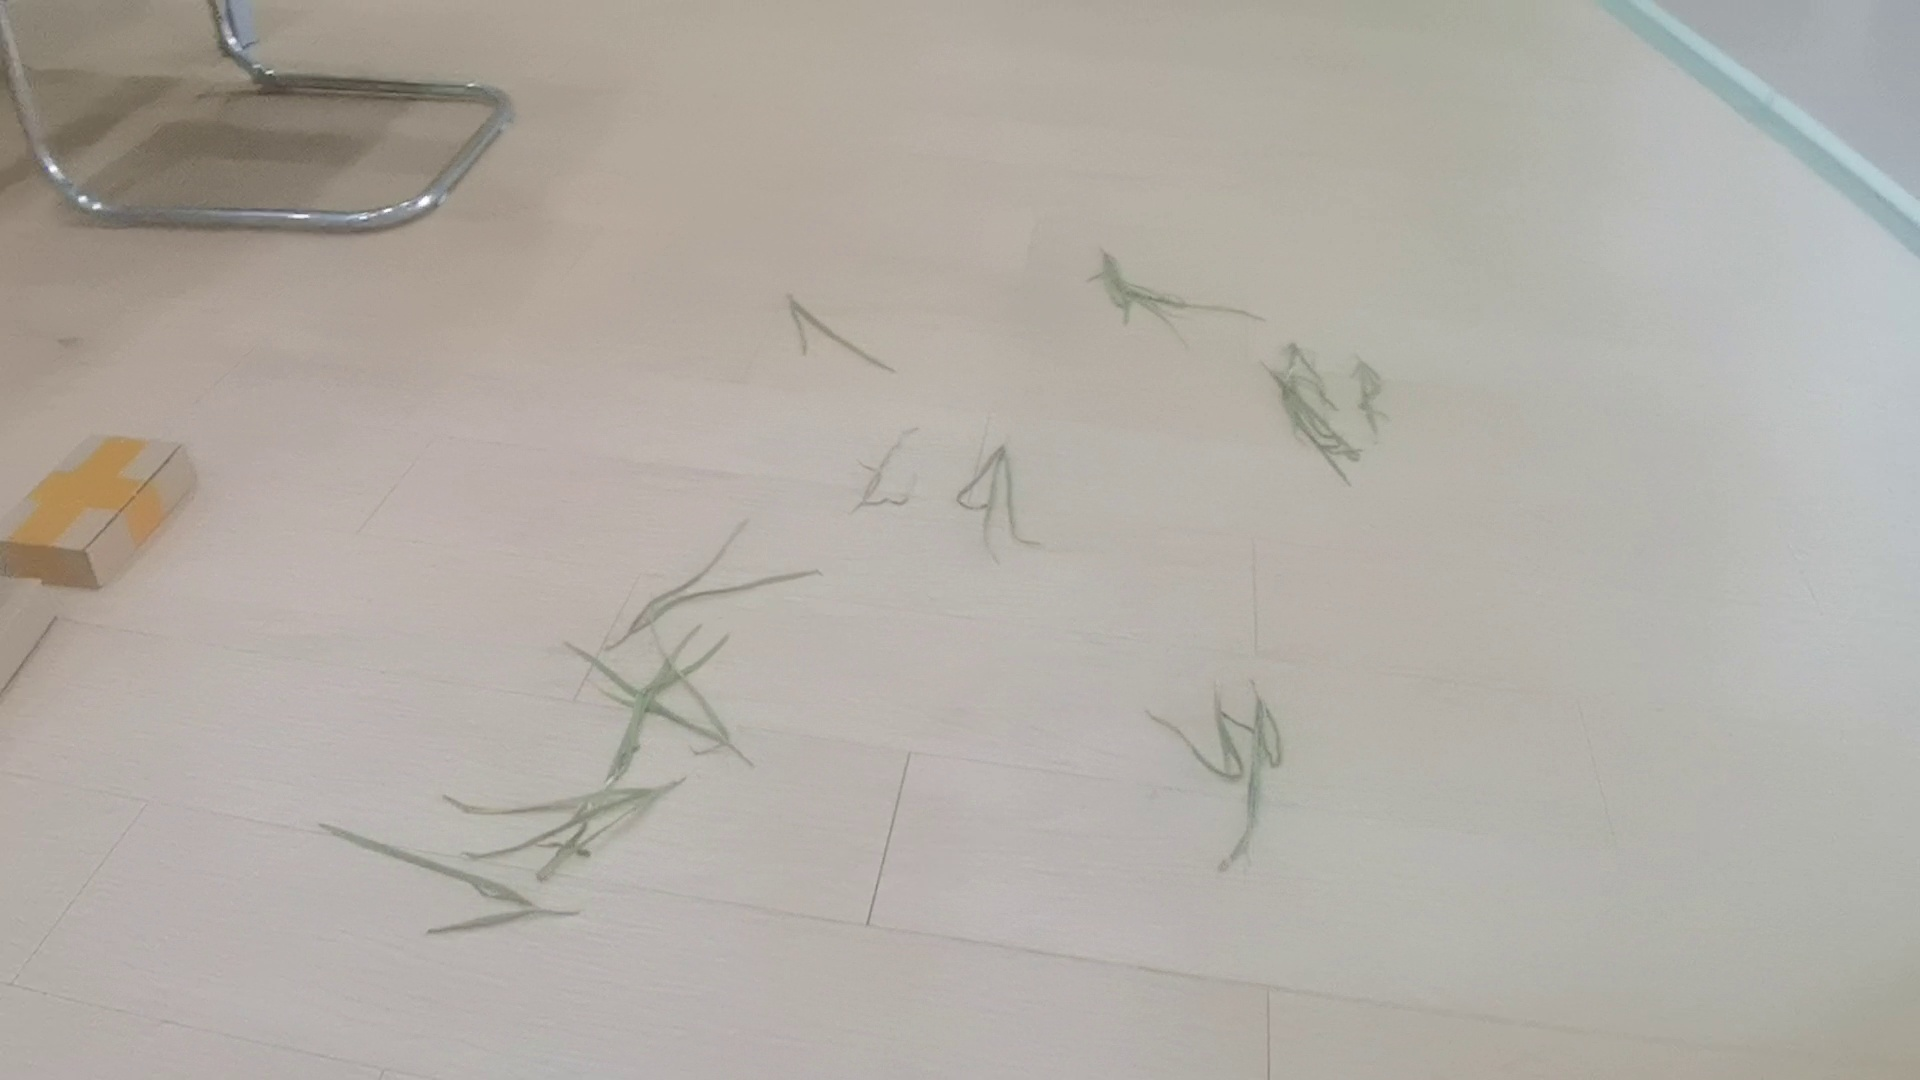chives: (444, 516, 816, 996), (770, 284, 947, 426), (1174, 661, 1305, 849), (1072, 204, 1230, 342), (934, 425, 1080, 554)
